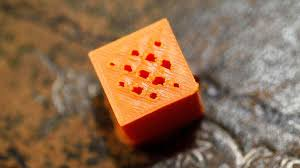3dptoplayergaps: (112, 84, 146, 105), (120, 41, 149, 64), (156, 52, 184, 72), (149, 75, 181, 92), (117, 67, 148, 78)
